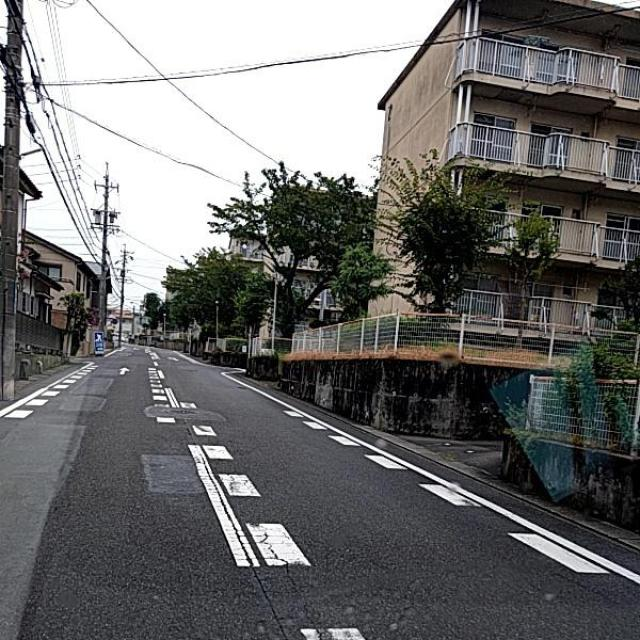Crack: (157, 375, 310, 632)
